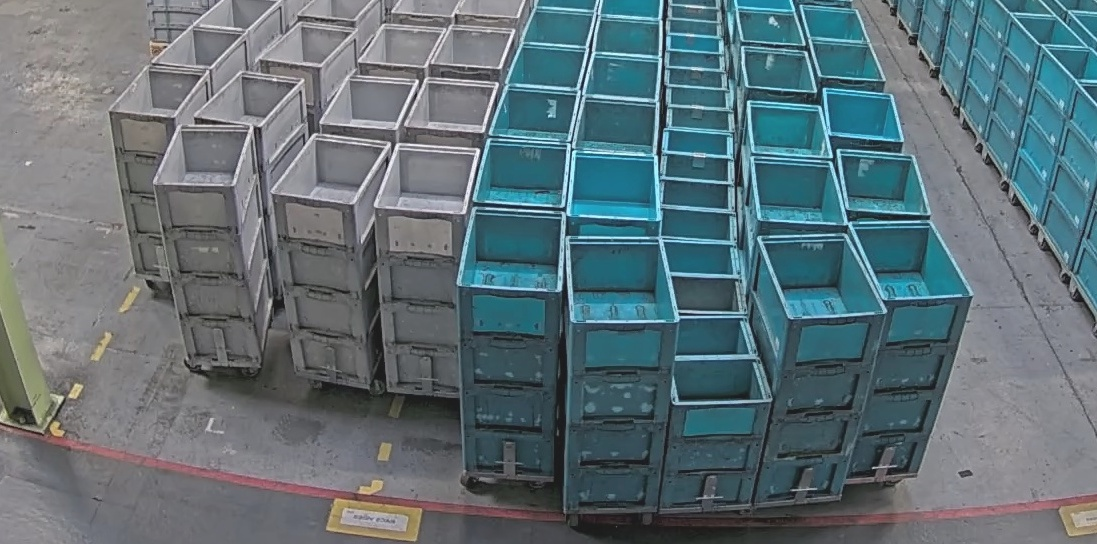4G: (270, 132, 392, 387), (152, 123, 275, 363), (373, 142, 480, 394), (108, 64, 212, 277)
B4: (746, 230, 889, 505), (845, 219, 977, 482), (563, 234, 681, 514), (454, 205, 569, 476)
B8: (654, 314, 774, 511)
